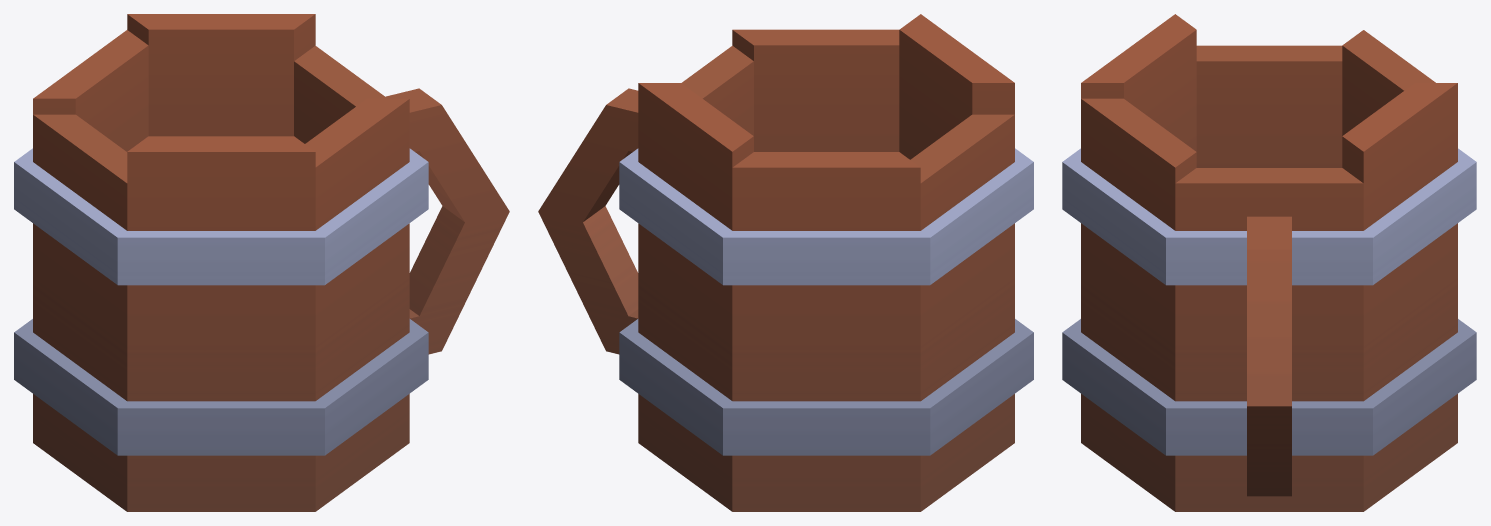
File: MugStylised.obj
3 views of the same model, side by side, from view 1: azimuth 30°, elevation 25°; view 2: azimuth 150°, elevation 25°; view 3: azimuth 270°, elevation 25° (orthographic).
Visible parts, largest first — view 1: mug; view 2: mug; view 3: mug.
Part boxes in pixels (x1,y1,x2,y2): mug: (14,14,509,511); mug: (538,14,1033,511); mug: (1062,14,1476,511).
Bounding box in the file's own units: 0.1203 × 0.0957 × 0.0998.
1 material, 1 textured.
